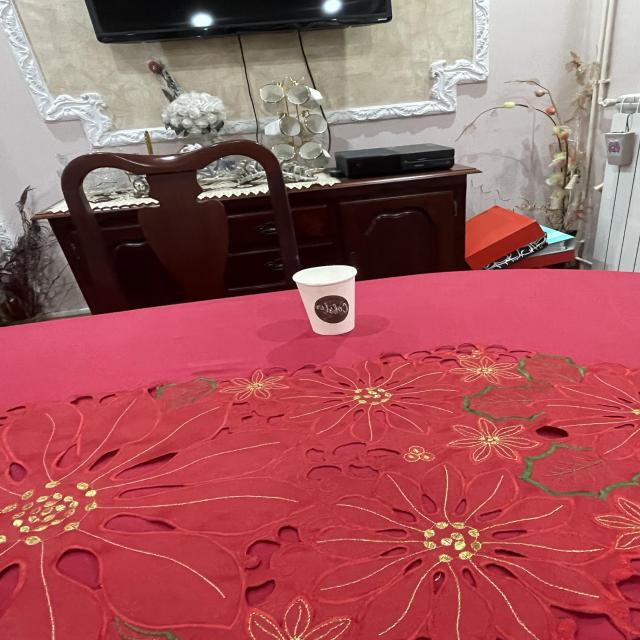medium: (284, 259, 371, 341)
